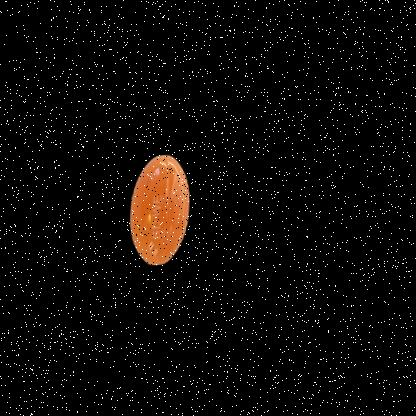welood: (113, 137, 229, 301)
